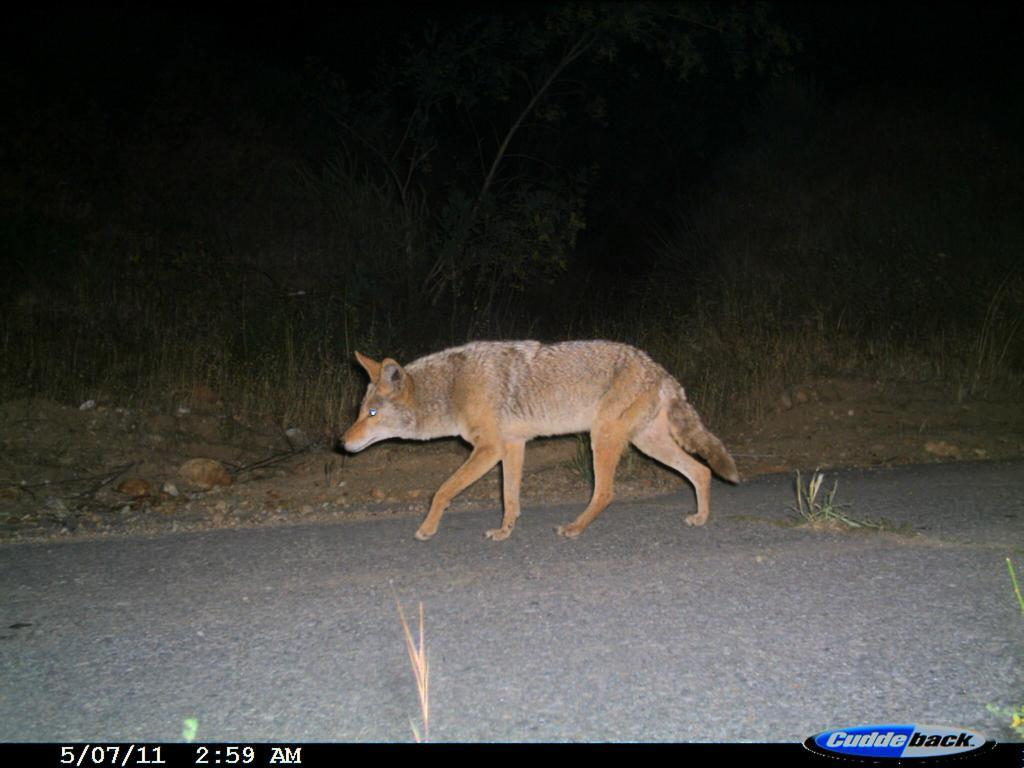coyote: (319, 319, 749, 547)
